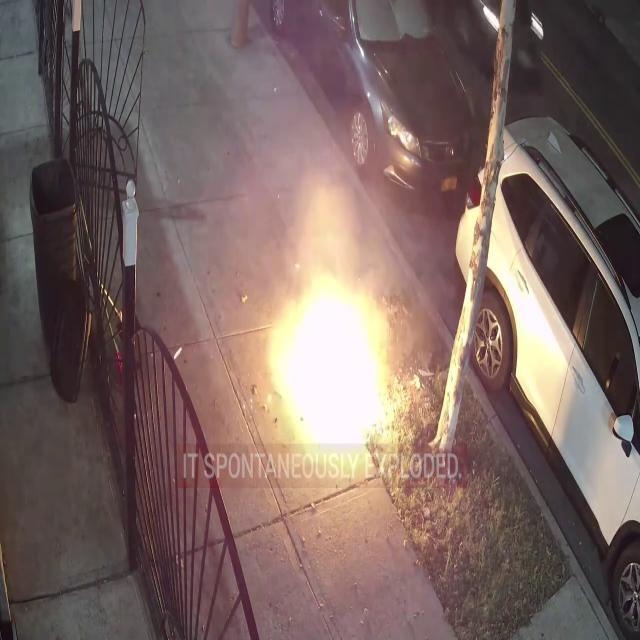Fire: (257, 247, 405, 473)
